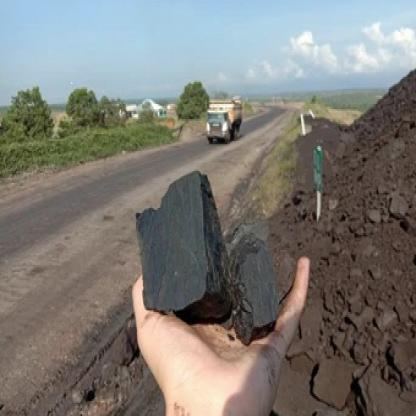Sedimentary_coal: (130, 161, 237, 322)
